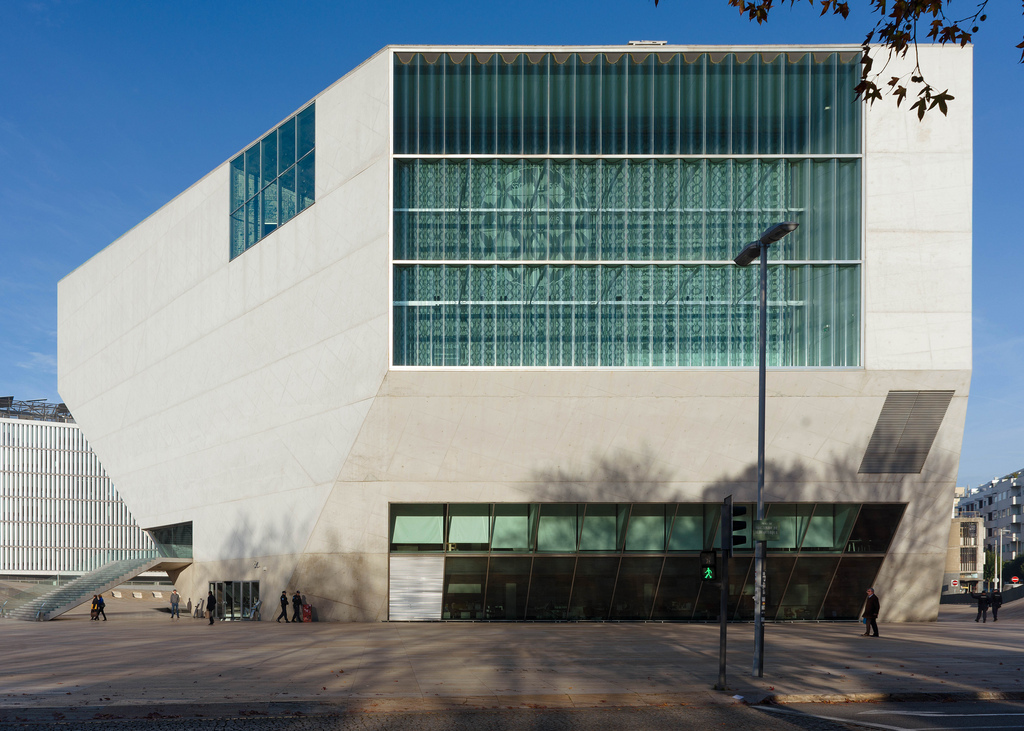musica: (53, 42, 973, 623)
